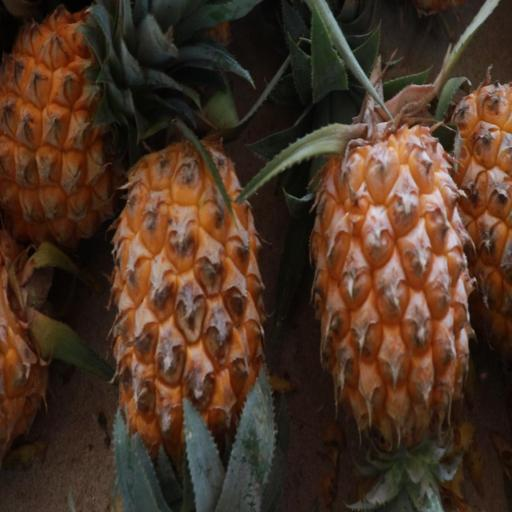Pineapple - v8 v1: (305, 115, 473, 512), (99, 122, 267, 512), (0, 0, 170, 258)
